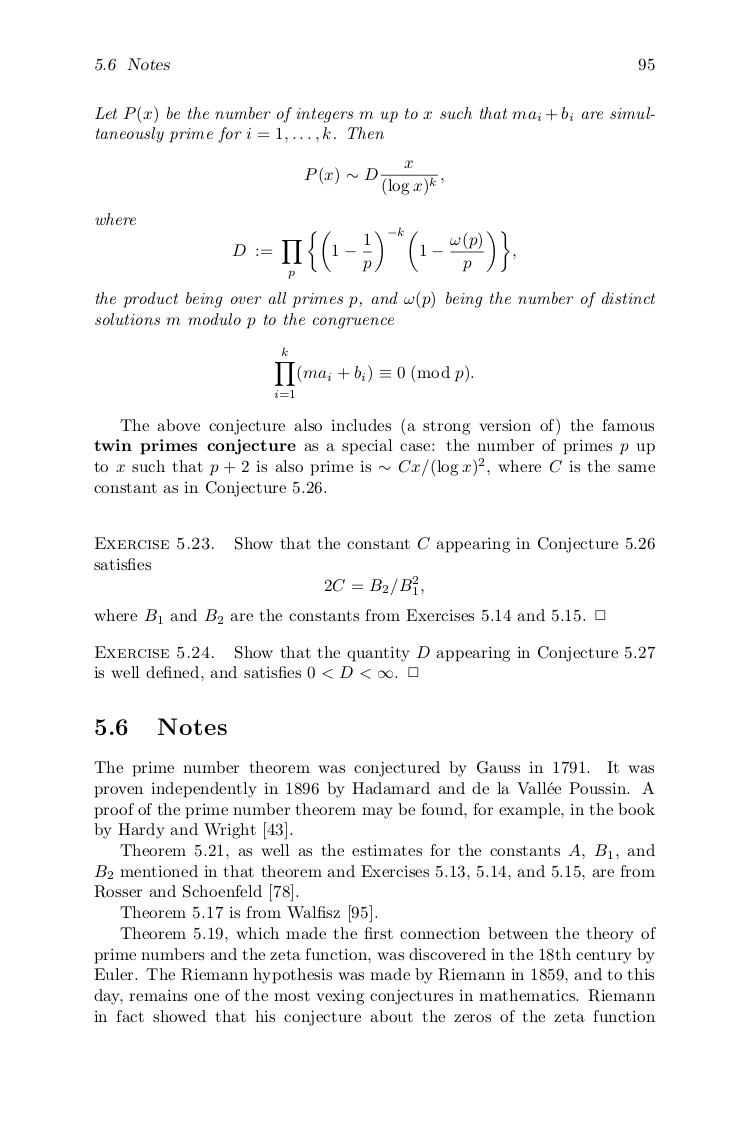formula: (232, 226, 515, 279), (274, 347, 473, 397), (304, 159, 443, 196), (324, 575, 423, 596)
